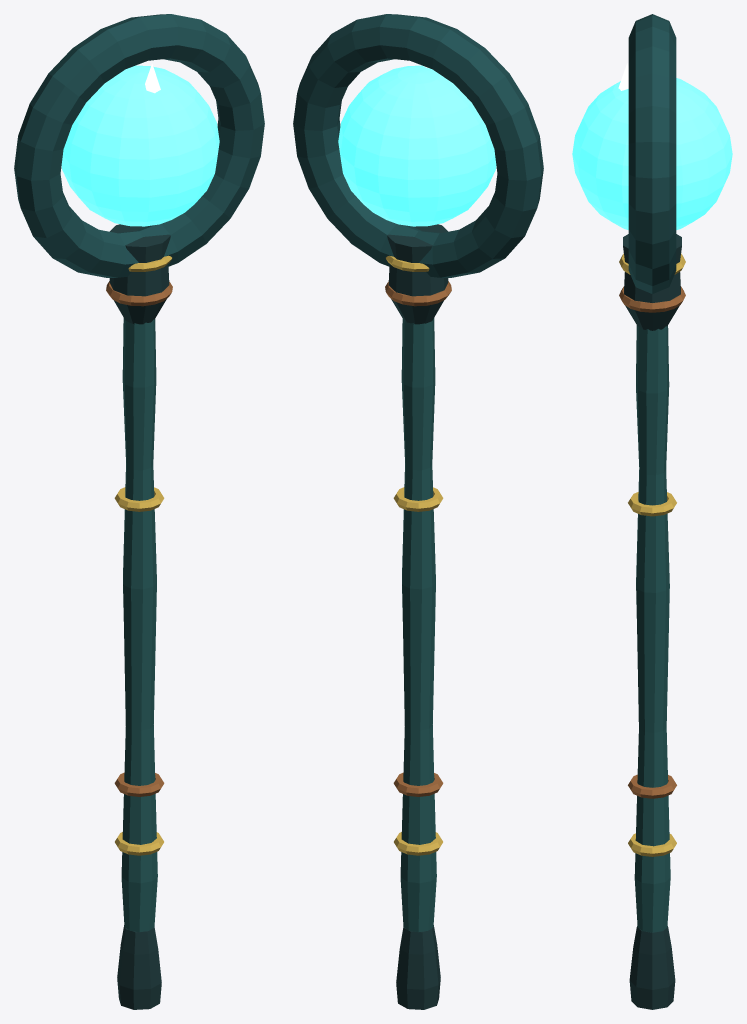
File: staff_tealring.glb
3 renders of one model, left to right at view 1: azimuth 30°, elevation 25°; view 2: azimuth 150°, elevation 25°; view 3: azimuth 270°, elevation 25°, orthographic.
Parts seen in each view (by area): view 1: Tr_Hoop, Tr_Orb, Tr_Shaft, Tr_Butt, Tr_Neck, Tr_RingA, Tr_Band2, Tr_Band1, Tr_Band0; view 2: Tr_Hoop, Tr_Orb, Tr_Shaft, Tr_Butt, Tr_Neck, Tr_RingA, Tr_Band2, Tr_Band1, Tr_Band0; view 3: Tr_Shaft, Tr_Hoop, Tr_Orb, Tr_Butt, Tr_Neck, Tr_RingA, Tr_Band2, Tr_Band1, Tr_Band0.
Boxes of the visible parts, x1,y1,x2,y2 form: Tr_Hoop: (14, 14, 264, 277); Tr_Orb: (61, 65, 219, 226); Tr_Shaft: (121, 318, 157, 932); Tr_Butt: (117, 925, 161, 1009); Tr_Neck: (109, 224, 170, 324); Tr_RingA: (106, 281, 172, 306); Tr_Band2: (114, 487, 164, 511); Tr_Band1: (114, 772, 164, 796); Tr_Band0: (115, 832, 163, 855); Tr_Hoop: (293, 14, 543, 277); Tr_Orb: (338, 65, 496, 226); Tr_Shaft: (400, 318, 436, 932); Tr_Butt: (396, 925, 440, 1009); Tr_Neck: (387, 224, 448, 324); Tr_RingA: (385, 281, 451, 306); Tr_Band2: (393, 487, 443, 511); Tr_Band1: (393, 772, 443, 796); Tr_Band0: (394, 832, 442, 855); Tr_Shaft: (634, 325, 670, 932); Tr_Hoop: (628, 14, 676, 293); Tr_Orb: (572, 78, 732, 229); Tr_Butt: (629, 926, 675, 1009); Tr_Neck: (623, 234, 681, 330); Tr_RingA: (619, 286, 685, 312); Tr_Band2: (628, 492, 676, 516); Tr_Band1: (628, 774, 676, 798); Tr_Band0: (628, 833, 676, 856).
Size of the model in its own units: 0.614 by 2.35 by 0.35.
